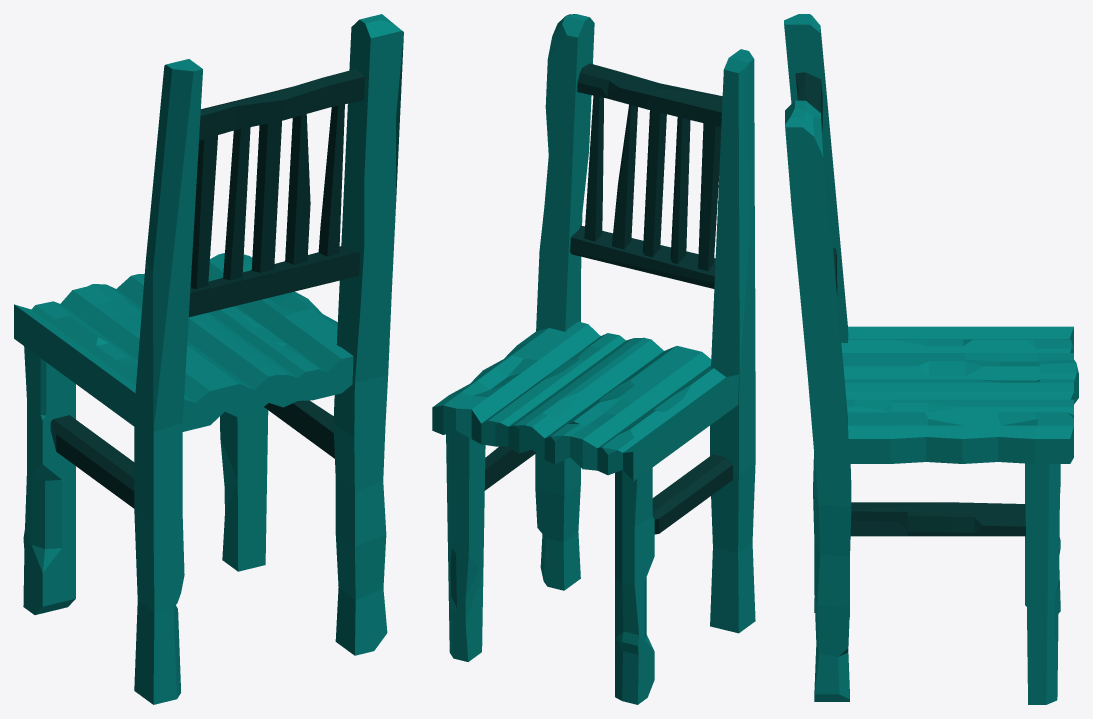
Rendered from Chair_4_Brlue.fbx.
3 renders of one model, left to right at view 1: azimuth 30°, elevation 25°; view 2: azimuth 150°, elevation 25°; view 3: azimuth 270°, elevation 25°, orthographic. The views are drawn at different scales.
Visible parts, largest first — view 1: Cube.254, Cube.253, Cube.250, Cube.251, Cube.252, Cube.258, Cube.257, Cube.256, Cube.262, Cube.261, Cube.260, Cube.259 (+2 smaller); view 2: Cube.250, Cube.253, Cube.254, Cube.251, Cube.252, Cube.258, Cube.257, Cube.256, Cube.260, Cube.262, Cube.261, Cube.264 (+2 smaller); view 3: Cube.250, Cube.254, Cube.252, Cube.255, Cube.253, Cube.258.
Boxes of the visible parts, left/top/right/bottom form: Cube.254: left=333, top=14, right=403, bottom=655; Cube.253: left=134, top=59, right=202, bottom=704; Cube.250: left=14, top=253, right=353, bottom=431; Cube.251: left=23, top=346, right=75, bottom=614; Cube.252: left=220, top=407, right=268, bottom=571; Cube.258: left=199, top=69, right=364, bottom=140; Cube.257: left=189, top=245, right=359, bottom=317; Cube.256: left=50, top=415, right=134, bottom=508; Cube.262: left=251, top=121, right=281, bottom=272; Cube.261: left=285, top=114, right=310, bottom=264; Cube.260: left=190, top=135, right=217, bottom=288; Cube.259: left=223, top=127, right=250, bottom=280; Cube.250: left=432, top=321, right=739, bottom=481; Cube.253: left=710, top=49, right=755, bottom=633; Cube.254: left=535, top=14, right=594, bottom=590; Cube.251: left=615, top=467, right=654, bottom=704; Cube.252: left=446, top=431, right=485, bottom=661; Cube.258: left=577, top=63, right=722, bottom=127; Cube.257: left=570, top=225, right=715, bottom=288; Cube.256: left=652, top=454, right=732, bottom=534; Cube.260: left=698, top=123, right=721, bottom=271; Cube.262: left=643, top=110, right=666, bottom=257; Cube.261: left=612, top=104, right=637, bottom=249; Cube.264: left=584, top=95, right=603, bottom=241; Cube.250: left=841, top=326, right=1078, bottom=463; Cube.254: left=785, top=100, right=851, bottom=701; Cube.252: left=1025, top=463, right=1060, bottom=704; Cube.255: left=850, top=502, right=1025, bottom=536; Cube.253: left=784, top=14, right=849, bottom=616; Cube.258: left=795, top=72, right=822, bottom=131.
Bounding box in the file's own units: 187 × 483 × 218.
